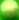white: (0, 0, 19, 20)
